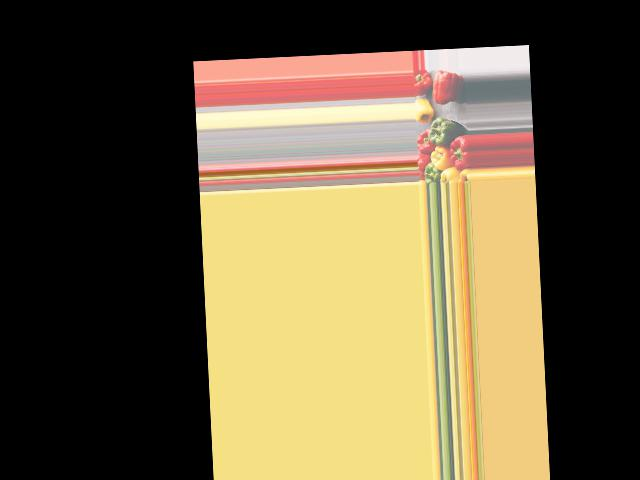bell_pepper: (415, 68, 431, 96)
